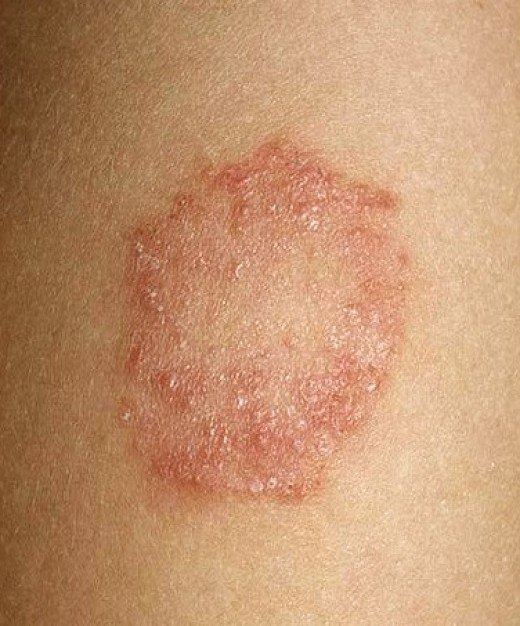Ringworm: (92, 122, 428, 528)
